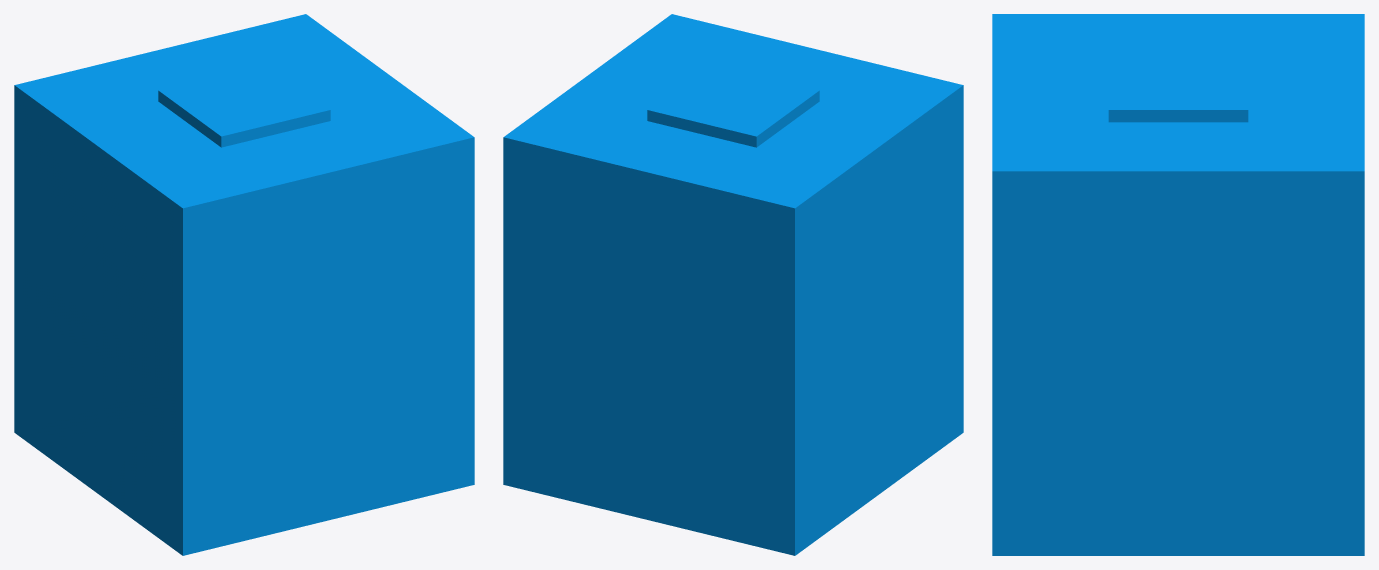
File: 180709 LegC.obj
The picture shows the model from 3 angles, left to right: view 1: azimuth 30°, elevation 25°; view 2: azimuth 150°, elevation 25°; view 3: azimuth 270°, elevation 25°; orthographic projection. The views are drawn at different scales.
Size of the model in its own units: 0.08 by 0.094 by 0.08.
